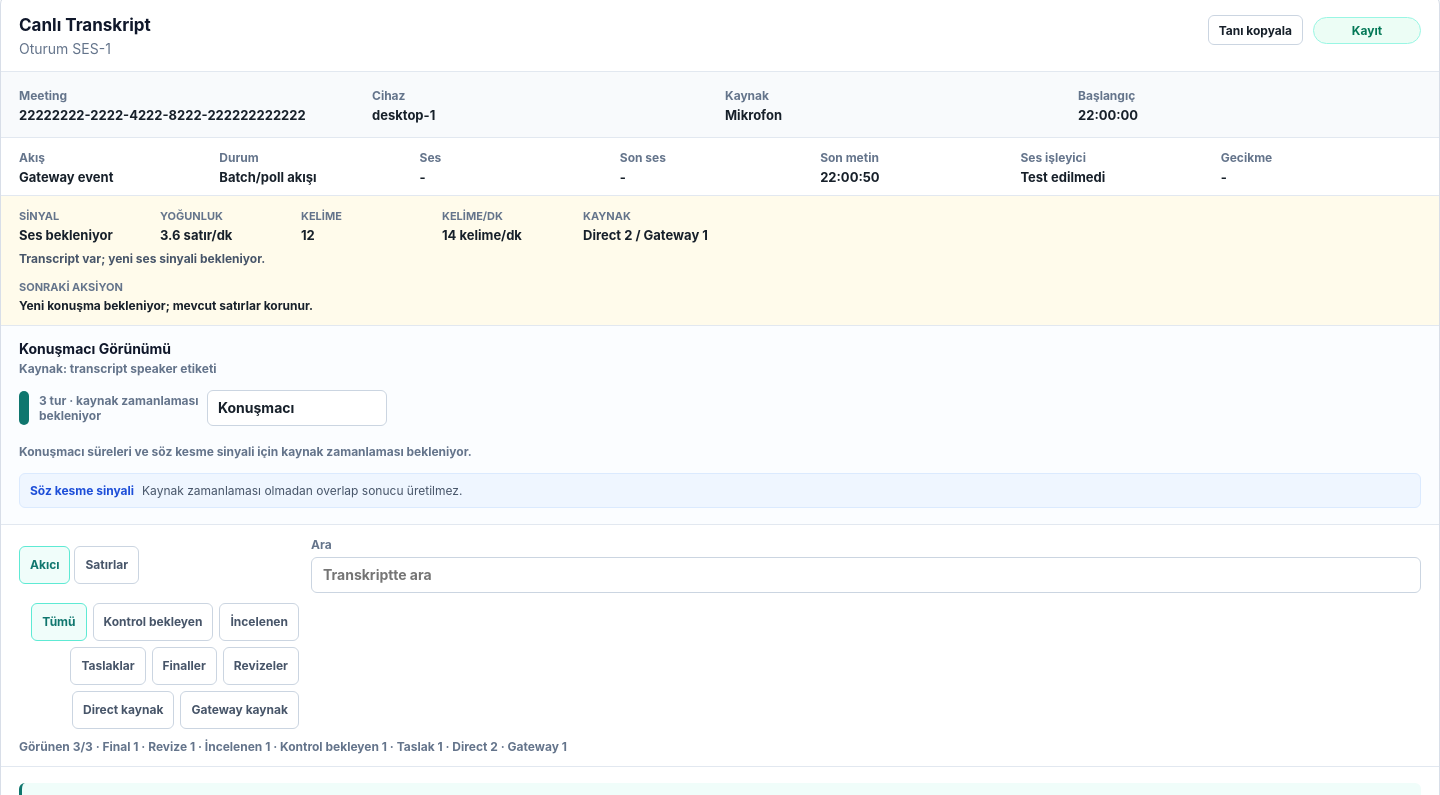
Scenario: TranscriptPanel › filters transcript rows by review status and source
Click the button "Satırlar".
click(107, 565)  # box [74, 546, 139, 584]
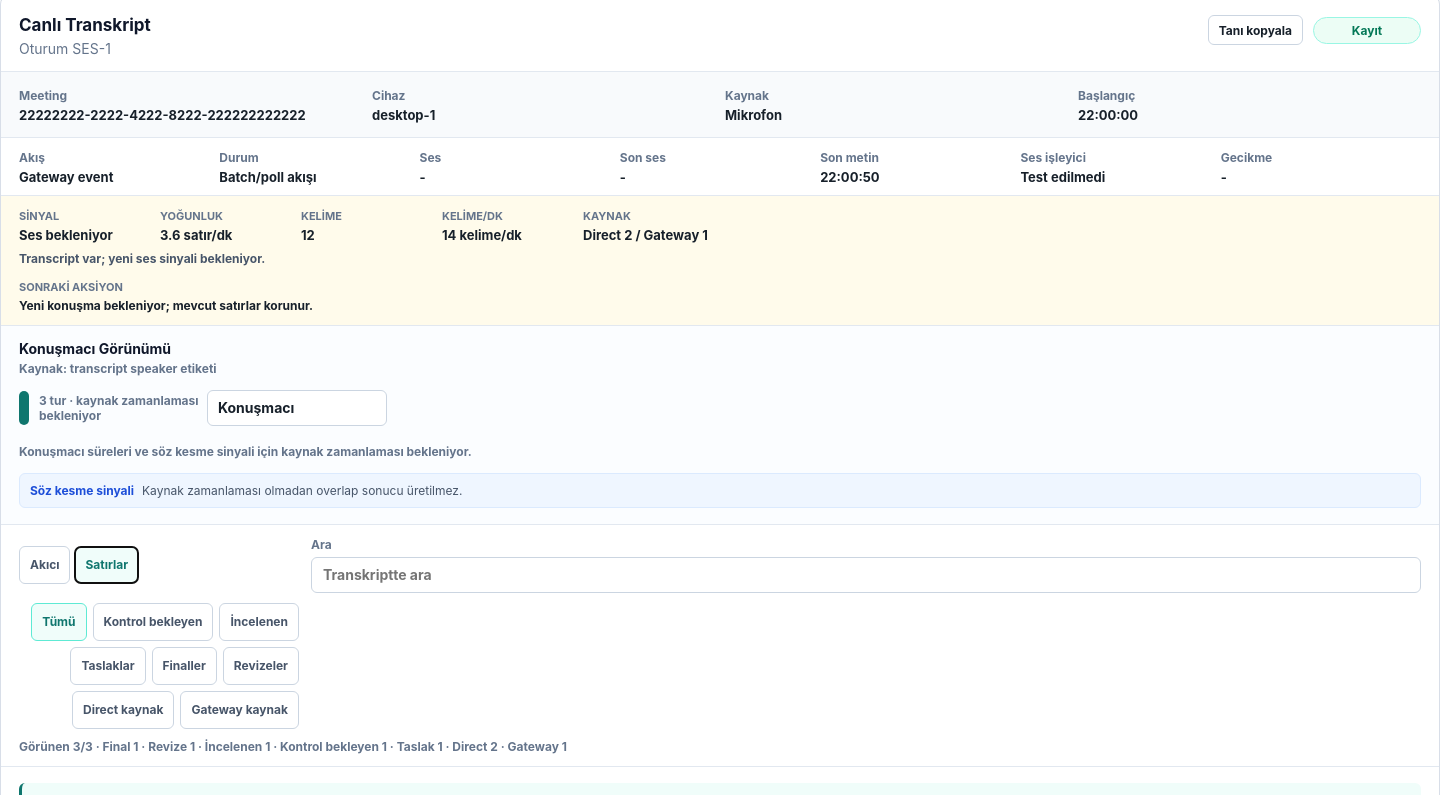
Click the button "Kontrol bekleyen".
click(153, 622)  # box [92, 603, 213, 641]
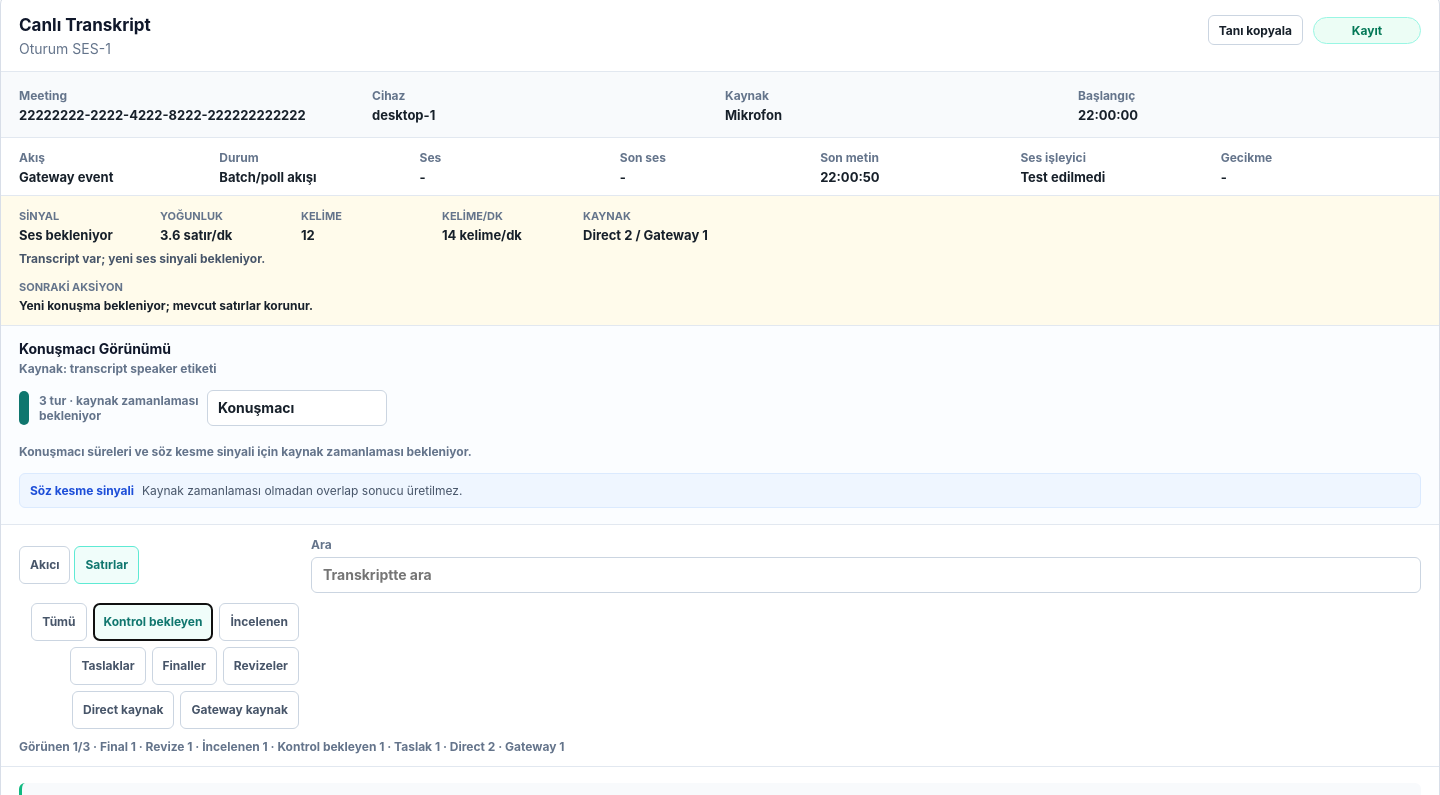
Click the button "İncelenen".
click(259, 622)  # box [220, 603, 299, 641]
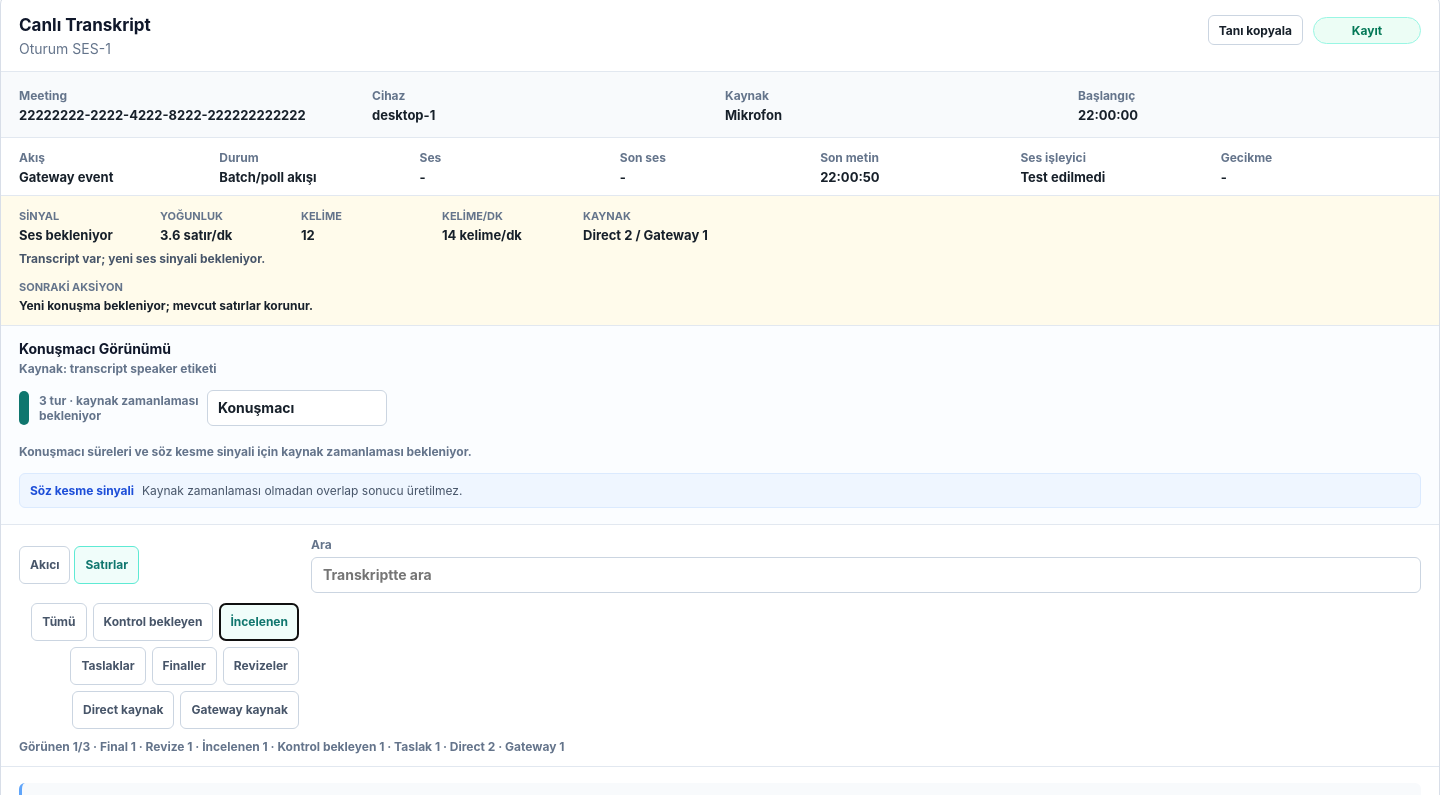
Click the button "Revizeler".
click(261, 666)  # box [223, 647, 299, 685]
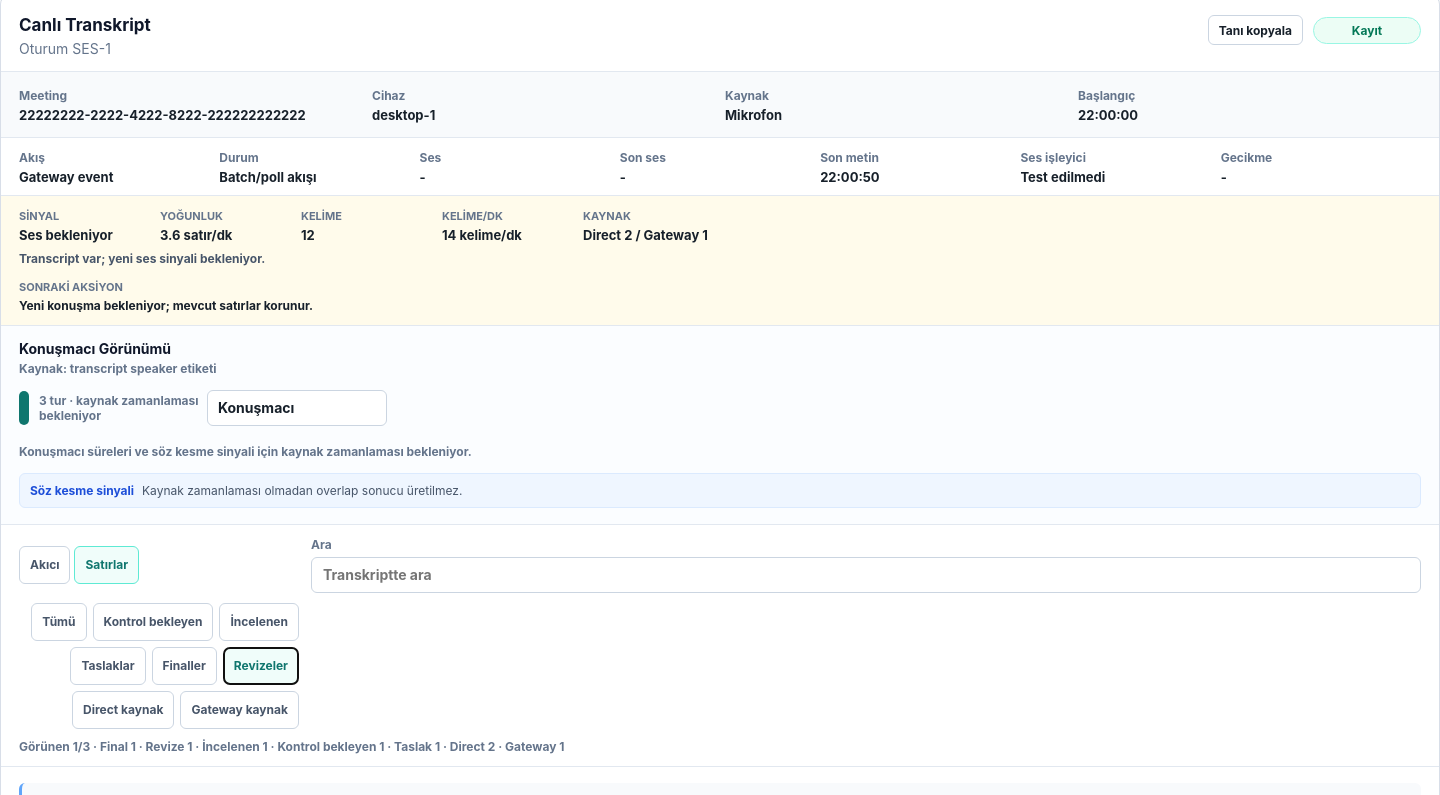
Expected: the button "Revizeler" is pressed, [223, 647, 299, 685]
Click the button "Direct kaynak".
click(123, 710)  # box [72, 691, 174, 729]
(page scrolled)
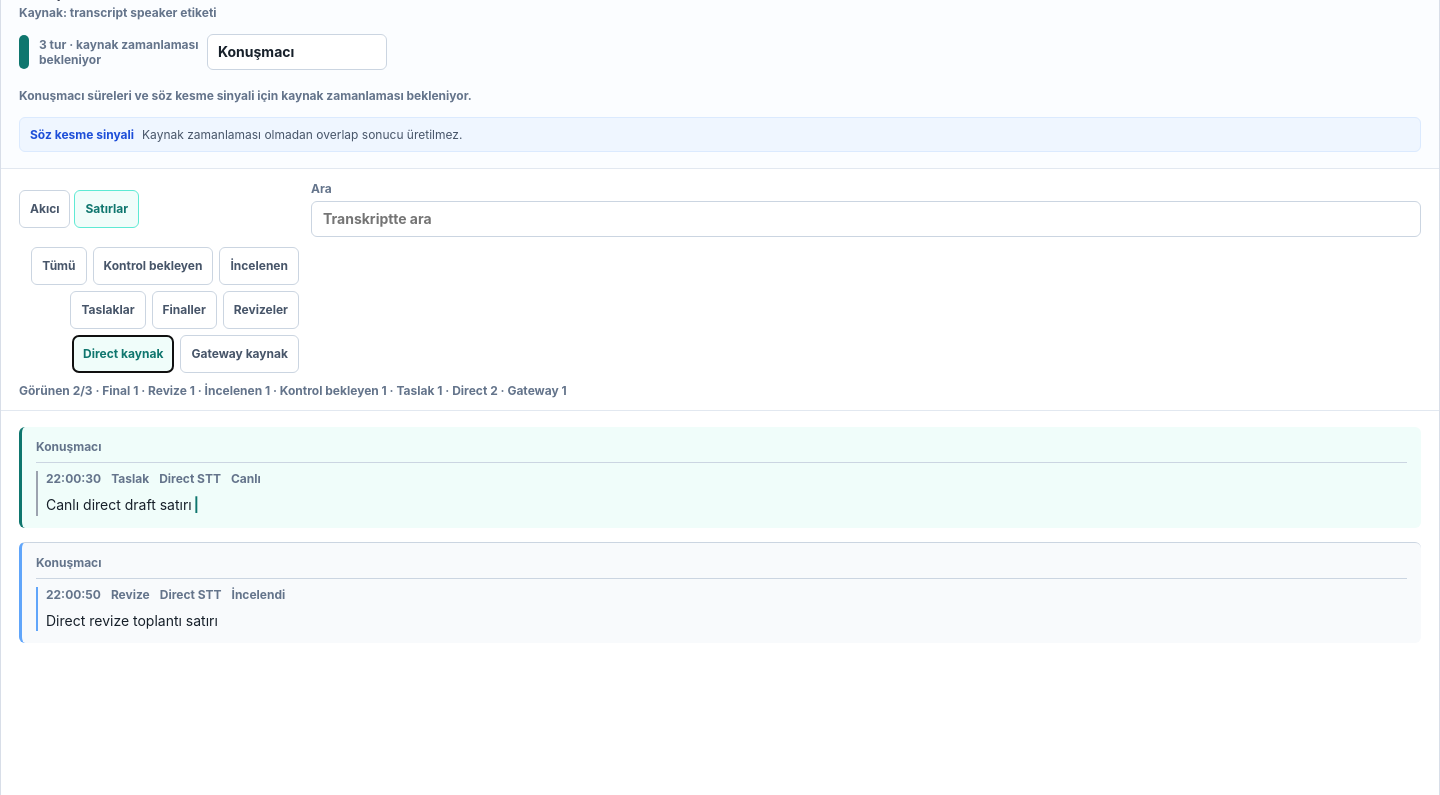
Expected: the text "Direct revize toplantı satırı" is shown, [46, 612, 218, 629]
Expected: the text "Canlı direct draft satırı" is shown, [46, 496, 192, 513]
